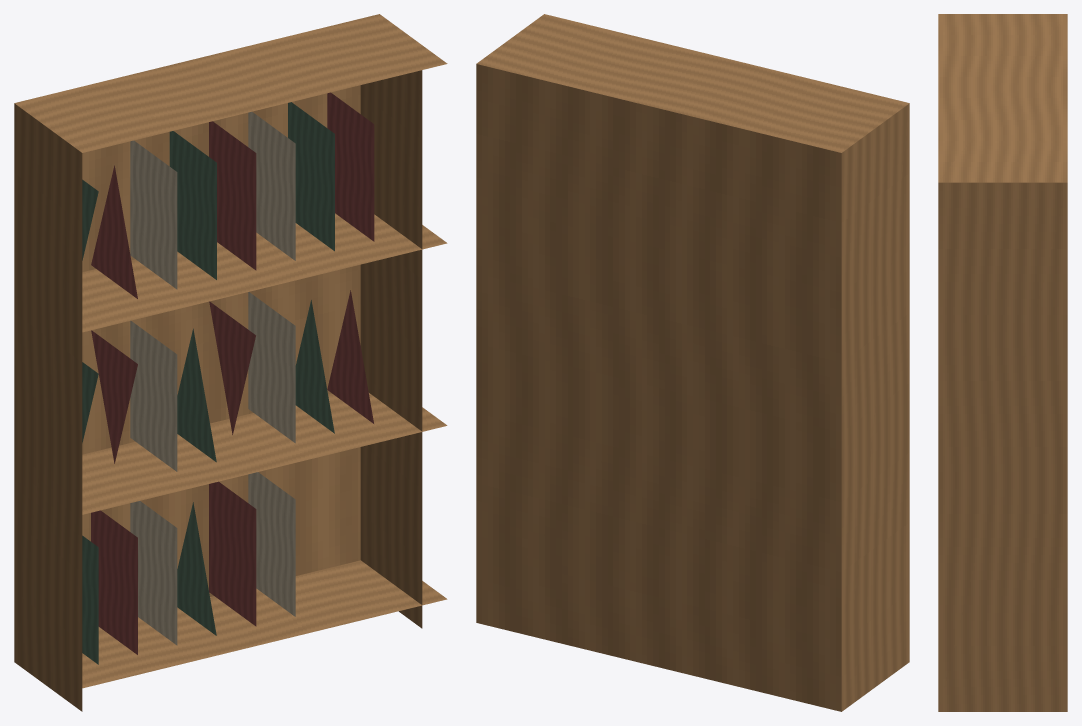
The picture shows the model from 3 angles, left to right: view 1: azimuth 30°, elevation 25°; view 2: azimuth 150°, elevation 25°; view 3: azimuth 270°, elevation 25°; orthographic projection. The views are drawn at different scales.
Parts seen in each view (by area): view 1: Regal mit Schulbüchern; view 2: Regal mit Schulbüchern; view 3: Regal mit Schulbüchern.
Boxes of the visible parts, x1,y1,x2,y2 form: Regal mit Schulbüchern: [14, 14, 447, 711]; Regal mit Schulbüchern: [476, 14, 909, 711]; Regal mit Schulbüchern: [938, 14, 1067, 711].
Size of the model in its own units: 1.3 by 1.9 by 0.42.
Materials: 4 (4 with a texture image).
